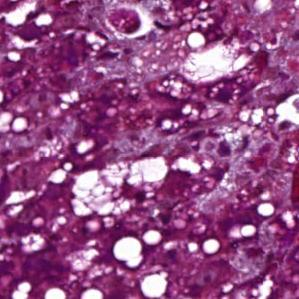ballooning: (73, 154, 170, 219), (177, 33, 253, 88)
